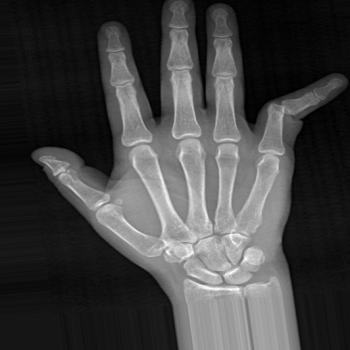Fracture: (265, 96, 305, 122)
